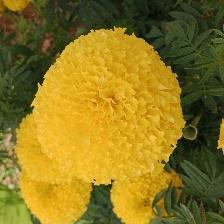marigold: (32, 26, 186, 177)
